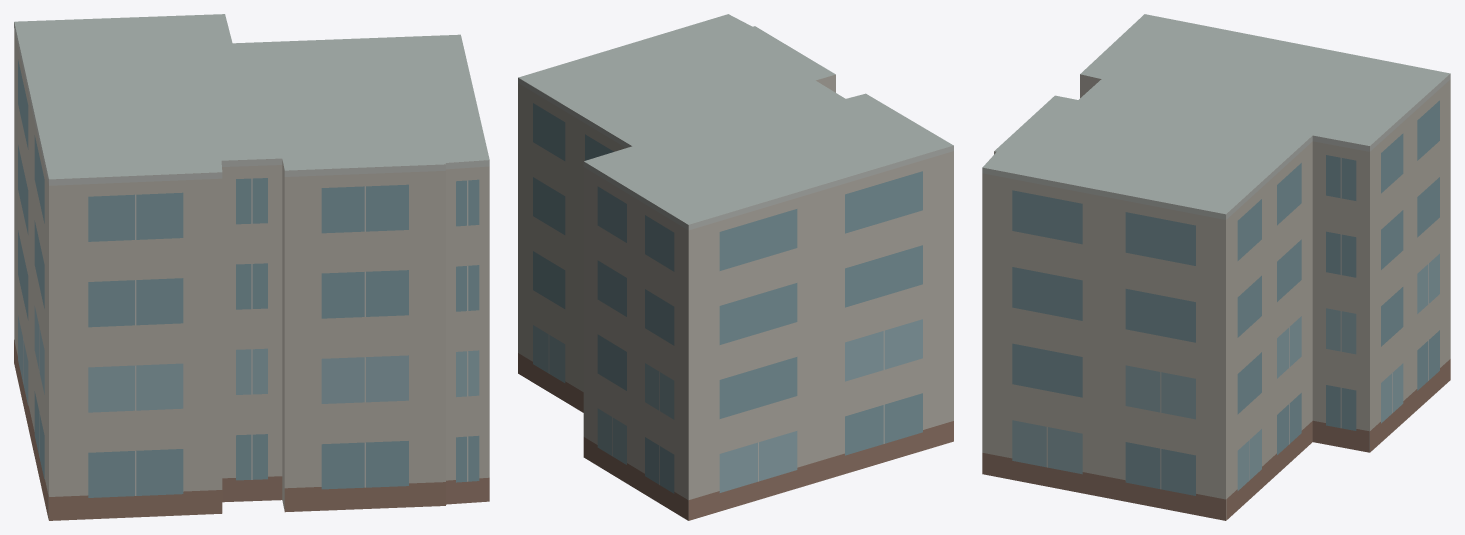
The model's file is survey-upis-32925927.glb.
3 views of the same model, side by side, from view 1: azimuth 30°, elevation 25°; view 2: azimuth 150°, elevation 25°; view 3: azimuth 270°, elevation 25° (orthographic). The views are drawn at different scales.
Visible parts, largest first — view 1: survey-upis-32925927.tmp; view 2: survey-upis-32925927.tmp; view 3: survey-upis-32925927.tmp.
Boxes of the visible parts, x1,y1,x2,y2 form: survey-upis-32925927.tmp: (14, 14, 489, 520); survey-upis-32925927.tmp: (518, 14, 953, 520); survey-upis-32925927.tmp: (982, 14, 1450, 520).
Bounding box in the file's own units: 18.23 × 13 × 18.01.
